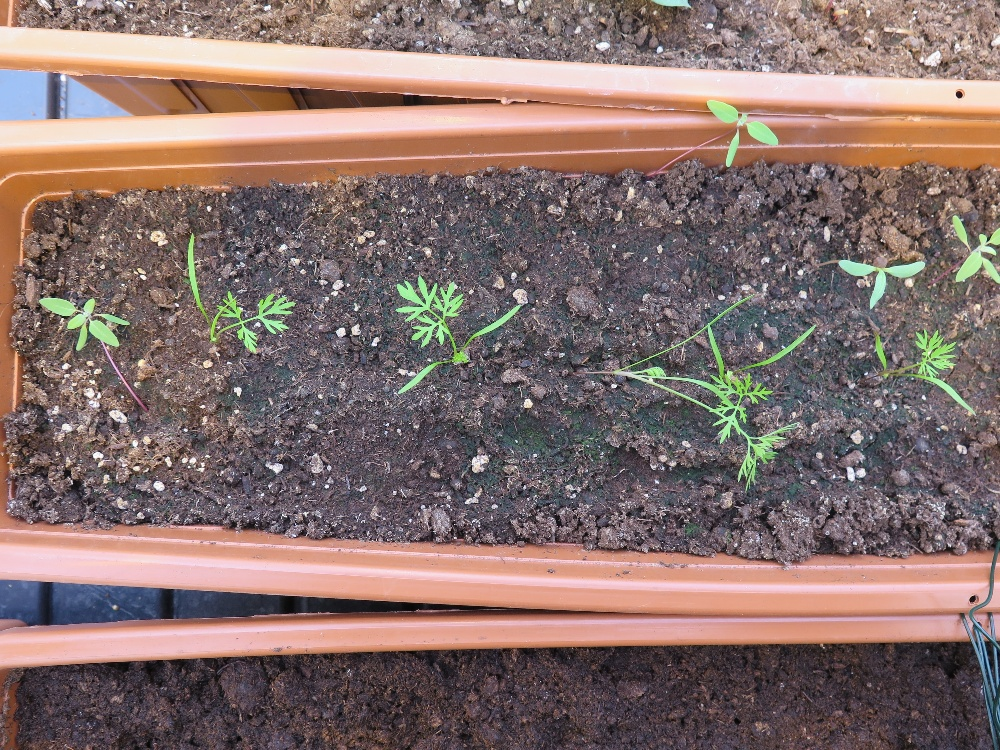crop: (575, 276, 823, 495), (394, 276, 523, 395), (187, 231, 299, 355), (871, 324, 978, 417)
weed: (706, 98, 780, 169), (38, 296, 132, 350), (837, 259, 927, 312)
